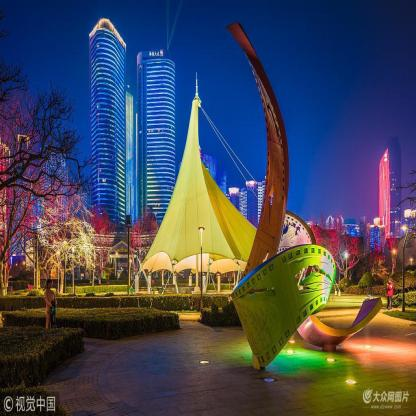other: (152, 86, 254, 255), (374, 150, 401, 240)
